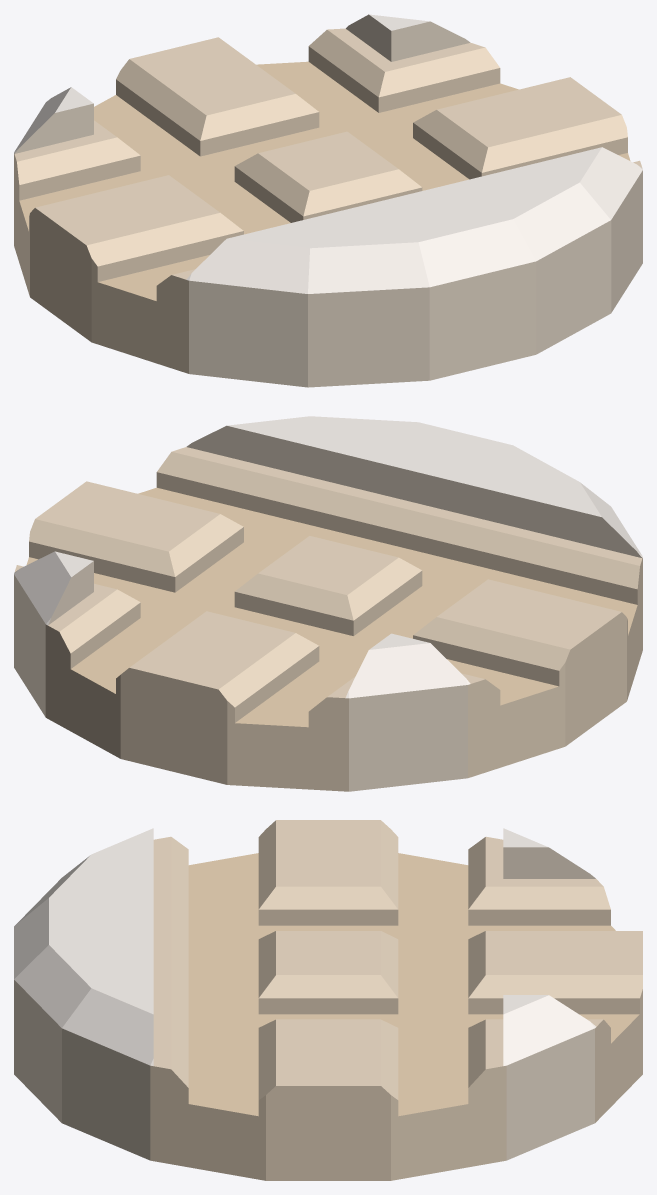
Rendered from Puzzle_Track_Rotating_Platform_TJoint.glb.
3 renders of one model, top to bottom at view 1: azimuth 30°, elevation 25°; view 2: azimuth 150°, elevation 25°; view 3: azimuth 270°, elevation 25°, orthographic.
Visible parts, largest first — view 1: Puzzle_Track_Rotating_Platform_TJoint; view 2: Puzzle_Track_Rotating_Platform_TJoint; view 3: Puzzle_Track_Rotating_Platform_TJoint.
Part boxes in pixels (box(x1,y1,x2,y2)): Puzzle_Track_Rotating_Platform_TJoint: box(14, 14, 642, 387); Puzzle_Track_Rotating_Platform_TJoint: box(14, 416, 642, 791); Puzzle_Track_Rotating_Platform_TJoint: box(14, 820, 642, 1180).
Size of the model in its own units: 0.9 by 0.2 by 0.9.
